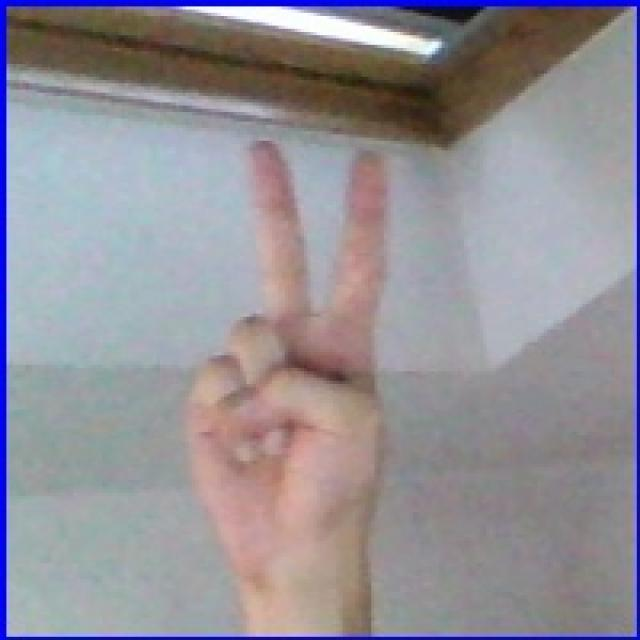Letra-V: (138, 96, 435, 598)
